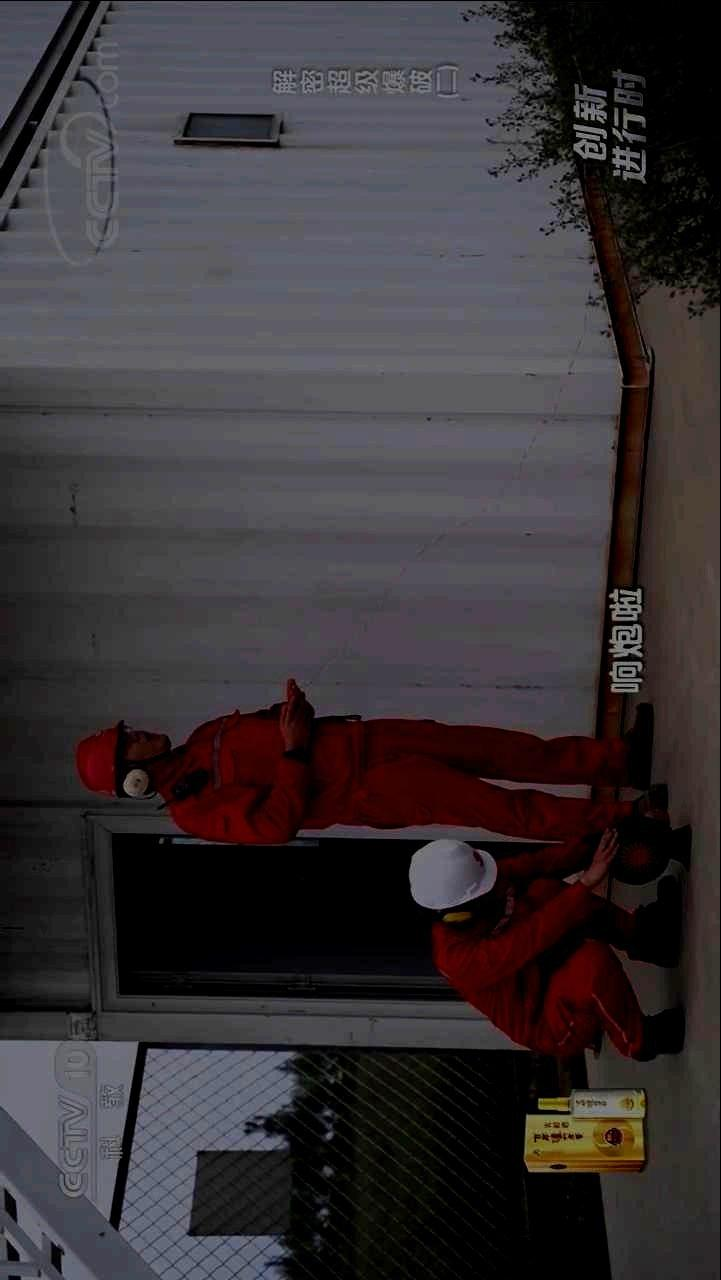helmet: (73, 718, 170, 800), (407, 838, 498, 923)
